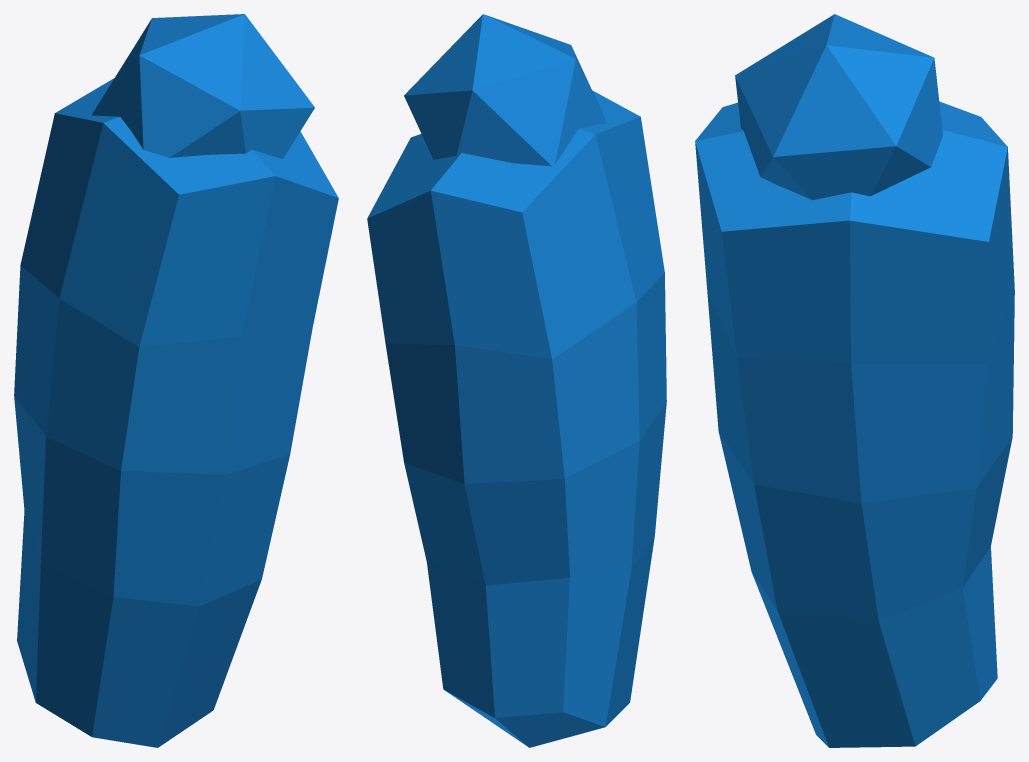
File: LEFT_THIGH.fbx
3 views of the same model, side by side, from view 1: azimuth 30°, elevation 25°; view 2: azimuth 150°, elevation 25°; view 3: azimuth 270°, elevation 25° (orthographic). The views are drawn at different scales.
Visible parts, largest first — view 1: LEFT_LEG; view 2: LEFT_LEG; view 3: LEFT_LEG.
Boxes of the visible parts, x1,y1,x2,y2 form: LEFT_LEG: (14,14,338,747); LEFT_LEG: (367,14,666,747); LEFT_LEG: (695,14,1014,747).
Bounding box in the file's own units: 0.3449 × 0.9549 × 0.373.
